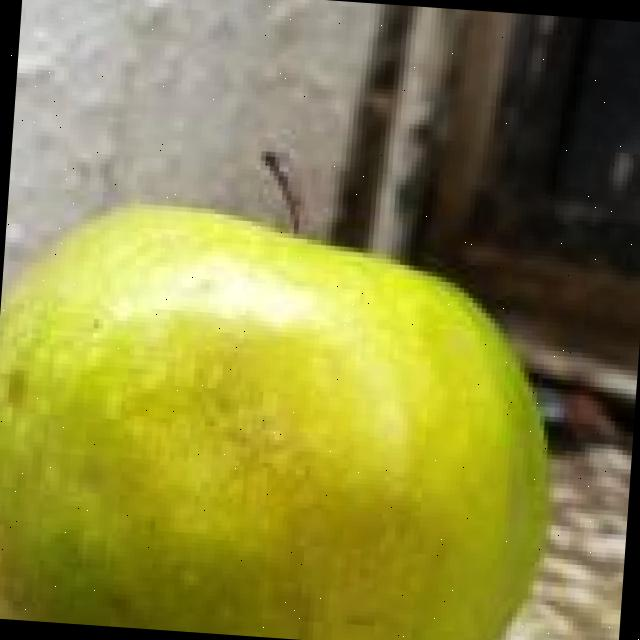Good_Apple 10-21 days: (0, 206, 546, 640)
